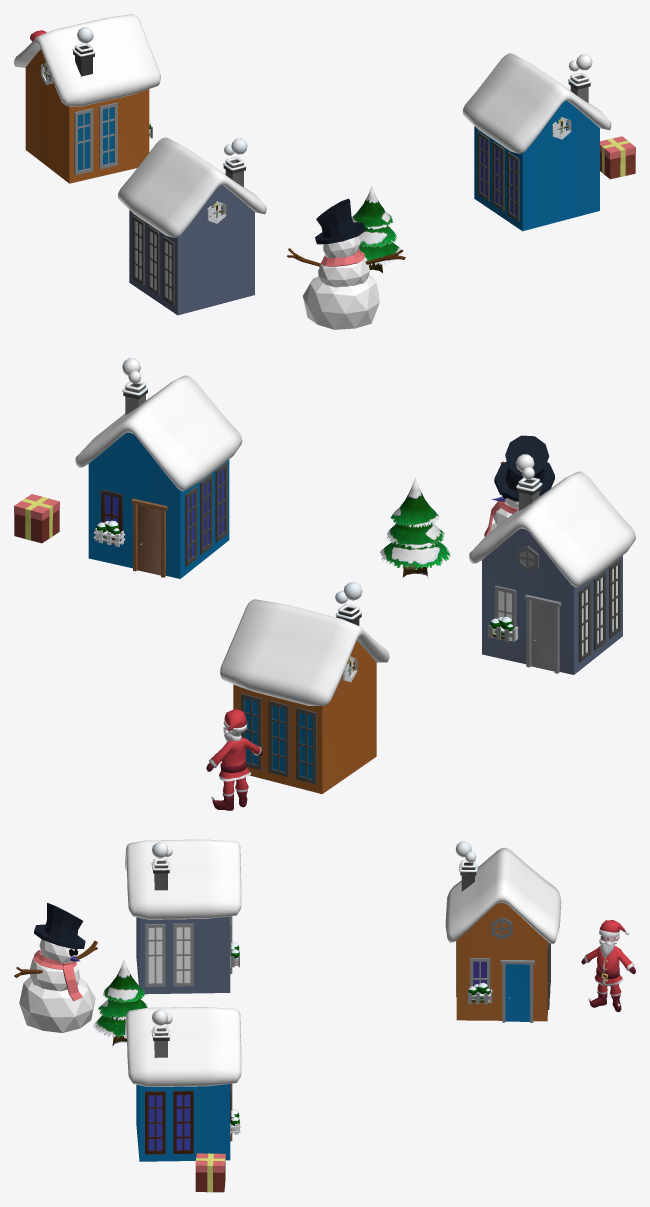
File: snow_scene.fbx
3 renders of one model, top to bottom at view 1: azimuth 30°, elevation 25°; view 2: azimuth 150°, elevation 25°; view 3: azimuth 270°, elevation 25°, orthographic. The views are drawn at different scales.
Parts seen in each view (by area): view 1: house2.001, house2.003, house2.002, Log.002, Cylinder.052, Cube.004; view 2: house2.001, house2.003, house2.002, Cylinder.052, Log.002, Object_3, Cube.004; view 3: house2.002, house2.003, house2.001, Log.002, Object_3, Cylinder.052, Cube.004.
Part boxes in pixels (left/top/right/bottom): house2.001: left=462, top=53, right=611, bottom=231; house2.003: left=118, top=137, right=266, bottom=315; house2.002: left=14, top=14, right=160, bottom=183; Log.002: left=287, top=198, right=405, bottom=329; Cylinder.052: left=352, top=185, right=401, bottom=272; Cube.004: left=600, top=136, right=635, bottom=179; house2.001: left=75, top=358, right=242, bottom=578; house2.003: left=469, top=454, right=635, bottom=674; house2.002: left=220, top=582, right=389, bottom=794; Cylinder.052: left=380, top=477, right=450, bottom=577; Log.002: left=484, top=435, right=554, bottom=536; Object_3: left=206, top=709, right=262, bottom=810; Cube.004: left=14, top=494, right=59, bottom=543; house2.002: left=445, top=841, right=561, bottom=1022; house2.003: left=125, top=839, right=241, bottom=994; house2.001: left=125, top=1007, right=241, bottom=1161; Log.002: left=14, top=903, right=97, bottom=1032; Object_3: left=581, top=920, right=635, bottom=1012; Cylinder.052: left=93, top=959, right=148, bottom=1046; Cube.004: left=195, top=1153, right=225, bottom=1192.
Size of what is drawn, in the model's own units: 451 by 131 by 487.
